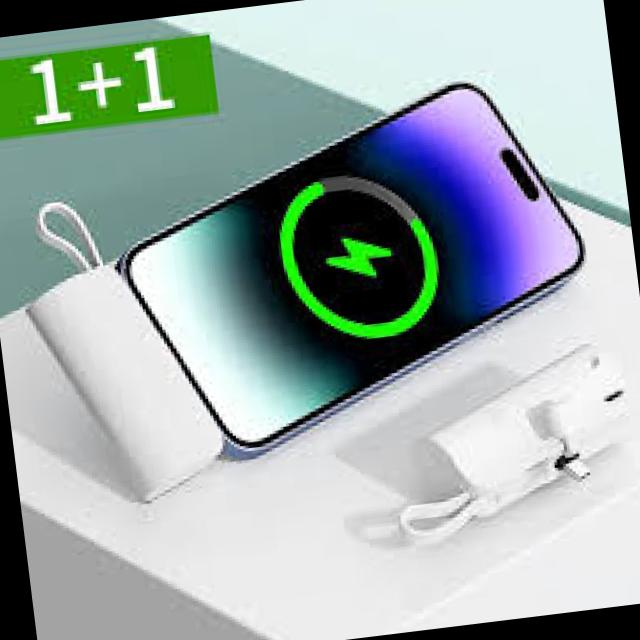power_bank: (22, 251, 234, 519), (412, 330, 640, 525)
